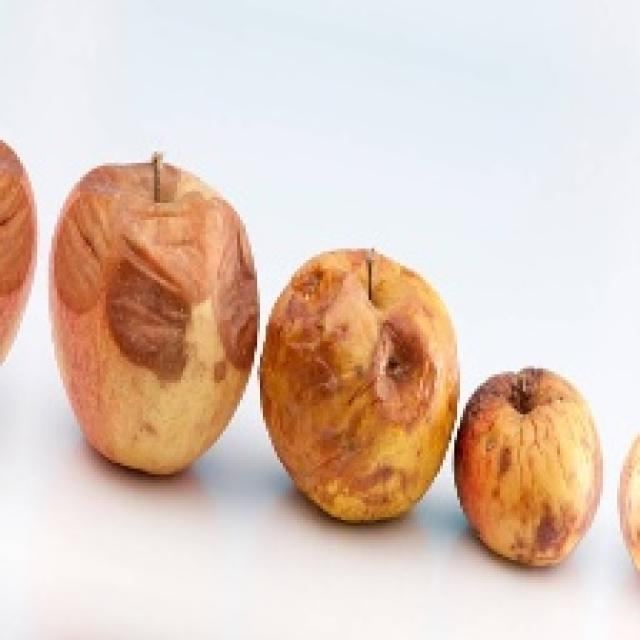rotten_apple: (54, 165, 256, 477), (265, 253, 459, 520), (459, 374, 604, 561)
